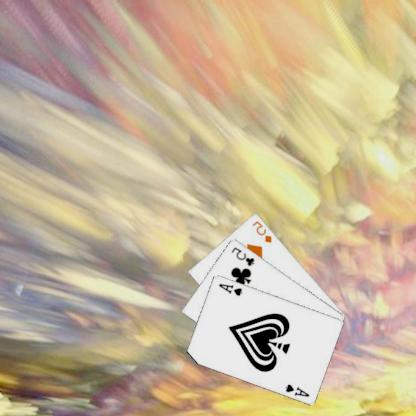5C: (230, 244, 257, 267)
5D: (251, 218, 275, 244)
AS: (284, 381, 312, 398), (218, 281, 245, 297)
